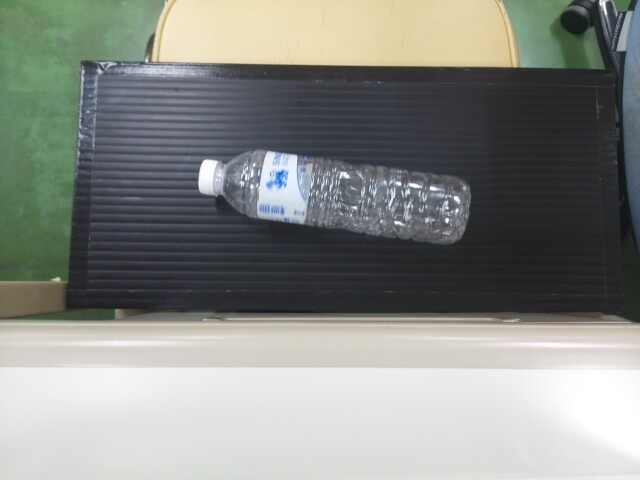plastic_bottle: (197, 149, 470, 245)
